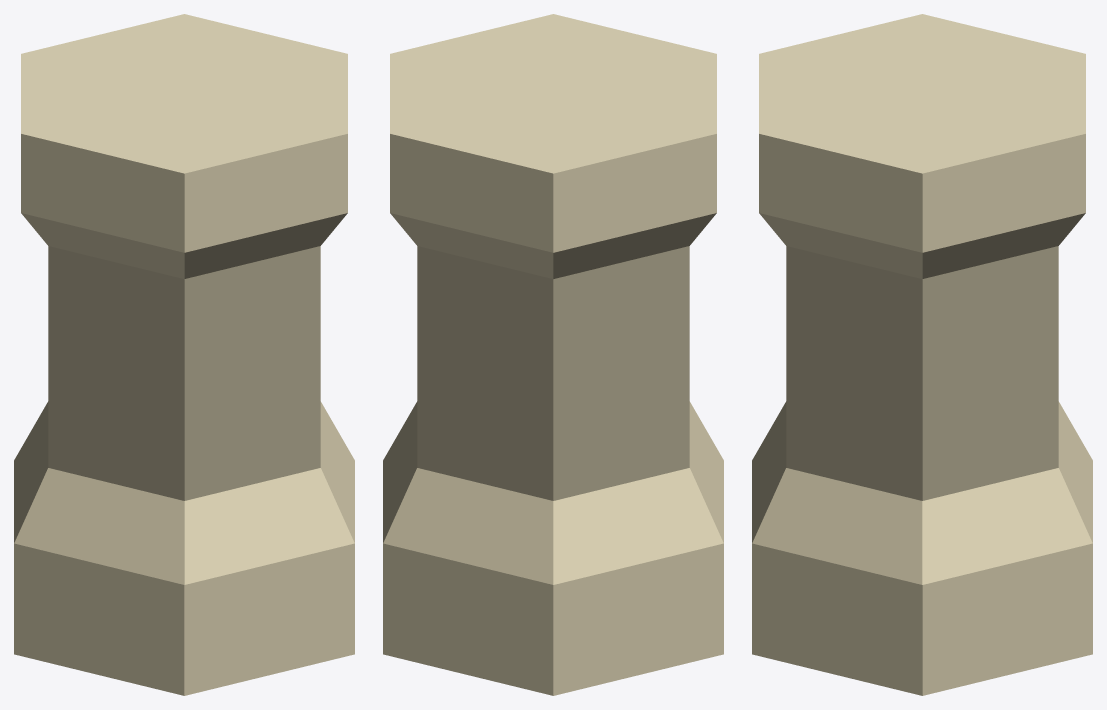
File: towerHexagonBase_exclusive.fbx
3 views of the same model, side by side, from view 1: azimuth 30°, elevation 25°; view 2: azimuth 150°, elevation 25°; view 3: azimuth 270°, elevation 25° (orthographic).
Parts seen in each view (by area): view 1: towerHexagonBase_exclusive; view 2: towerHexagonBase_exclusive; view 3: towerHexagonBase_exclusive.
Boxes of the visible parts, x1,y1,x2,y2 form: towerHexagonBase_exclusive: (14, 14, 354, 695); towerHexagonBase_exclusive: (383, 14, 723, 695); towerHexagonBase_exclusive: (752, 14, 1092, 695).
Bounding box in the file's own units: 9 × 13.1 × 7.79.
